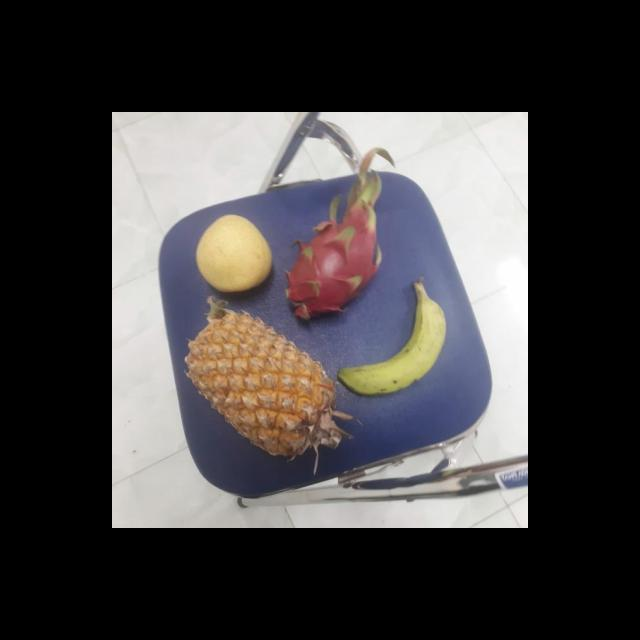banana: (341, 285, 452, 398)
pear: (197, 213, 277, 293)
pineapple: (194, 308, 344, 457)
pitaya: (284, 204, 383, 322)
